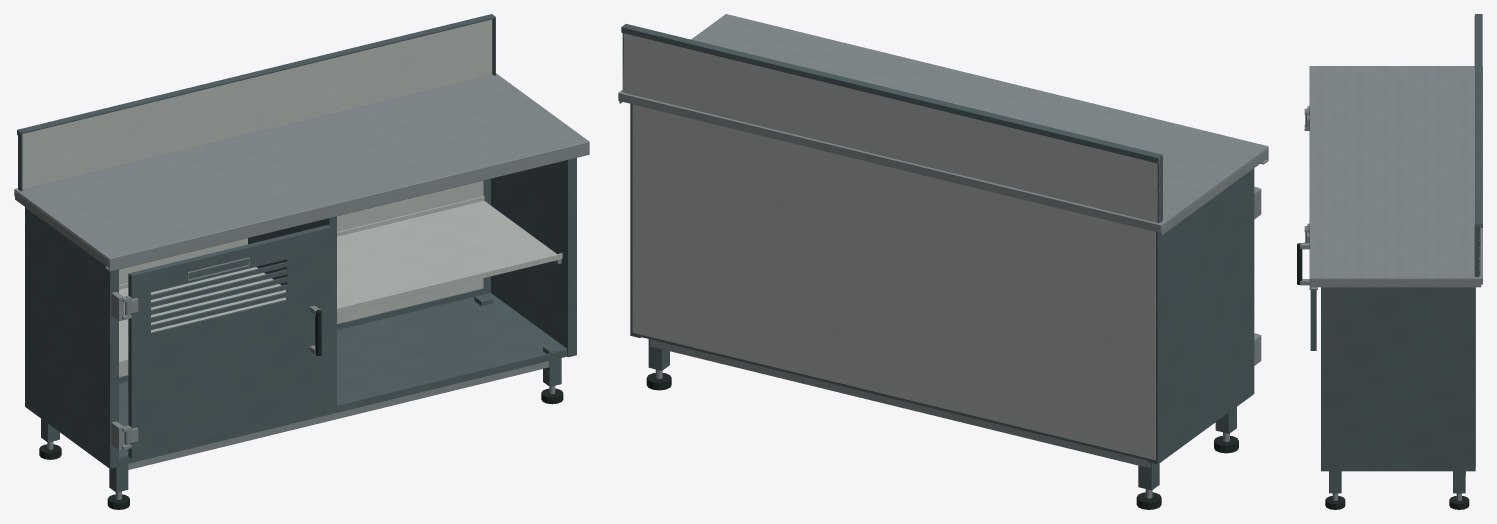
Rendered from AST-STF-007_supply_work_cabinet.glb.
3 renders of one model, left to right at view 1: azimuth 30°, elevation 25°; view 2: azimuth 150°, elevation 25°; view 3: azimuth 270°, elevation 25°, orthographic. The views are drawn at different scales.
Visible parts, largest first — view 1: AST-STF-007_static_staff_zinc, AST-STF-007_static_staff_bluegrey_paint, AST-STF-007_static_staff_white_paint, AST-STF-007_door_leaf_staff_bluegrey_paint, AST-STF-007_static_staff_rubber, AST-STF-007_door_leaf_staff_zinc; view 2: AST-STF-007_static_staff_white_paint, AST-STF-007_static_staff_zinc, AST-STF-007_static_staff_bluegrey_paint, AST-STF-007_static_staff_rubber; view 3: AST-STF-007_static_staff_zinc, AST-STF-007_static_staff_bluegrey_paint, AST-STF-007_static_staff_rubber, AST-STF-007_door_leaf_staff_bluegrey_paint, AST-STF-007_static_staff_white_paint.
Part boxes in pixels (box(x1,y1,x2,y2)): AST-STF-007_static_staff_zinc: box(14, 73, 589, 499); AST-STF-007_static_staff_bluegrey_paint: box(17, 14, 576, 492); AST-STF-007_static_staff_white_paint: box(18, 19, 562, 376); AST-STF-007_door_leaf_staff_bluegrey_paint: box(128, 224, 331, 458); AST-STF-007_static_staff_rubber: box(39, 388, 563, 509); AST-STF-007_door_leaf_staff_zinc: box(124, 257, 249, 445); AST-STF-007_static_staff_white_paint: box(622, 33, 1159, 459); AST-STF-007_static_staff_zinc: box(618, 14, 1268, 498); AST-STF-007_static_staff_bluegrey_paint: box(621, 24, 1254, 490); AST-STF-007_static_staff_rubber: box(646, 373, 1238, 509); AST-STF-007_static_staff_zinc: box(1304, 66, 1482, 500); AST-STF-007_static_staff_bluegrey_paint: box(1321, 14, 1482, 493); AST-STF-007_static_staff_rubber: box(1325, 496, 1469, 509); AST-STF-007_door_leaf_staff_bluegrey_paint: box(1310, 290, 1316, 350); AST-STF-007_static_staff_white_paint: box(1475, 225, 1480, 466).
Size of the model in its own units: 1.8 by 1.15 by 0.665.
4 materials, 4 textured.
